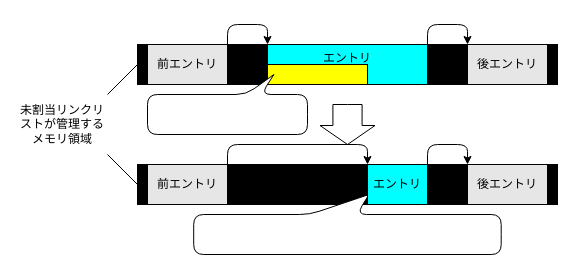
Some shapes in this 575 by 273 pixel diagram are drawn without their labels. The centre of each missing label's shape, as x and y in pixels:
"エントリから割当メモリ領域を引いて、割当メモリ領域を割当済リンクリストに追加（メモリ領域追加）" belongs at point (347, 224).
"エントリのメモリ領域内に 収まる割当てサイズ" belongs at point (227, 104).
"割当メモリ領域" belongs at point (317, 74).
